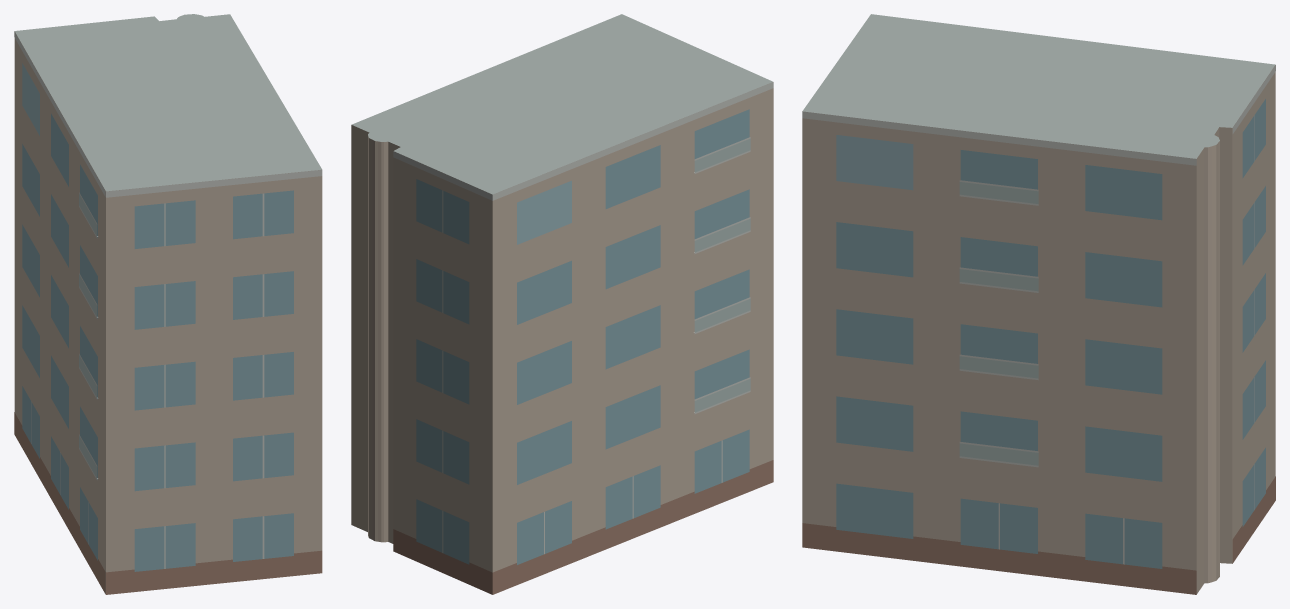
The model's file is survey-upis-32888846.glb.
3 views of the same model, side by side, from view 1: azimuth 30°, elevation 25°; view 2: azimuth 150°, elevation 25°; view 3: azimuth 270°, elevation 25° (orthographic). The views are drawn at different scales.
Visible parts, largest first — view 1: survey-upis-32888846.tmp; view 2: survey-upis-32888846.tmp; view 3: survey-upis-32888846.tmp.
Boxes of the visible parts, x1,y1,x2,y2 form: survey-upis-32888846.tmp: [14, 14, 322, 594]; survey-upis-32888846.tmp: [351, 14, 773, 594]; survey-upis-32888846.tmp: [802, 14, 1275, 594].
Size of the model in its own units: 11.06 by 15.5 by 15.26.
